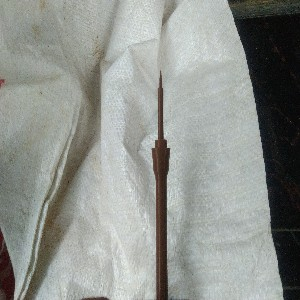solder: (151, 68, 171, 300)
